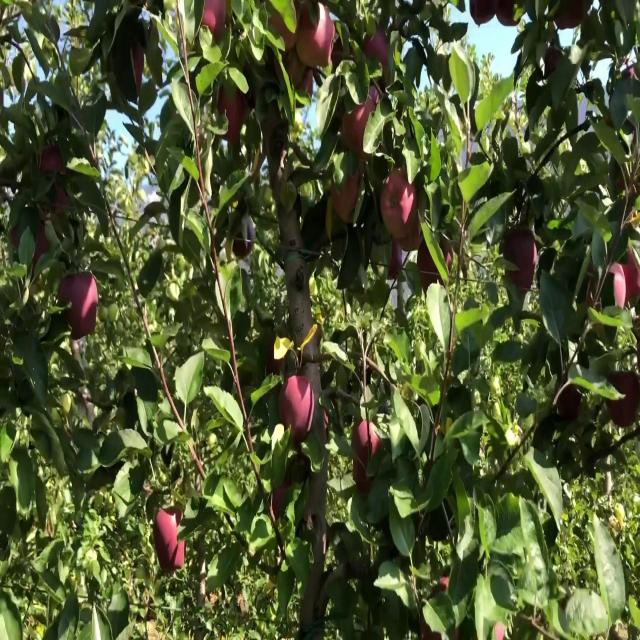apple: (340, 92, 380, 164), (380, 170, 419, 238), (60, 277, 100, 341), (296, 7, 336, 71), (504, 227, 539, 297), (280, 376, 315, 441), (608, 369, 640, 432), (156, 511, 187, 576), (588, 263, 624, 318), (216, 85, 247, 148), (328, 170, 362, 226), (340, 99, 371, 156), (393, 199, 423, 256), (364, 28, 393, 85), (604, 255, 632, 313), (272, 7, 299, 53), (352, 419, 382, 460), (204, 0, 230, 44), (556, 383, 583, 425), (156, 511, 179, 560), (416, 241, 439, 290), (284, 56, 312, 96), (156, 540, 187, 576), (40, 142, 67, 181), (556, 0, 586, 34), (300, 319, 323, 363), (44, 184, 68, 226), (396, 220, 423, 256), (624, 248, 640, 304), (268, 341, 292, 377), (32, 227, 51, 268), (388, 241, 405, 283), (496, 0, 519, 30), (272, 483, 290, 521), (232, 234, 255, 263), (312, 412, 331, 446), (472, 0, 495, 28), (544, 49, 564, 76), (624, 56, 640, 80), (12, 227, 21, 249)
